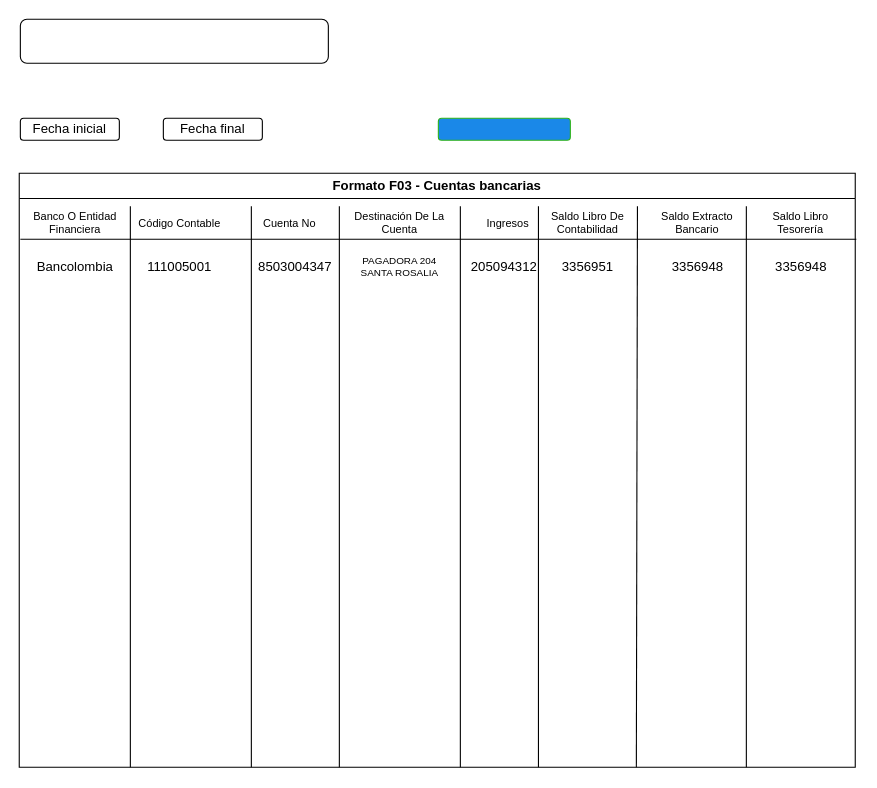
Image size: 877x788. Some labels were removed from this diagram. Here are the shapes that lost their labels. From the top down, the centre of each, then its label:
At [173,40]: "F03 - reporte de cuentas bancarias.".
At [503,128]: "Generar reporte".
